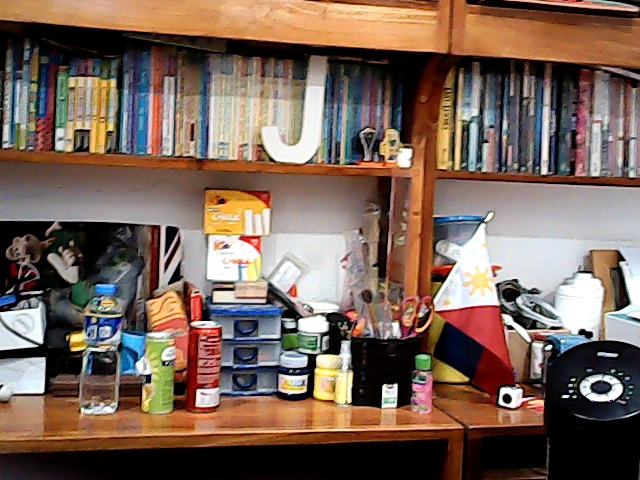Cola: (183, 315, 233, 415)
Pine Juice: (136, 323, 183, 421)
Summit Water: (80, 273, 126, 408)
